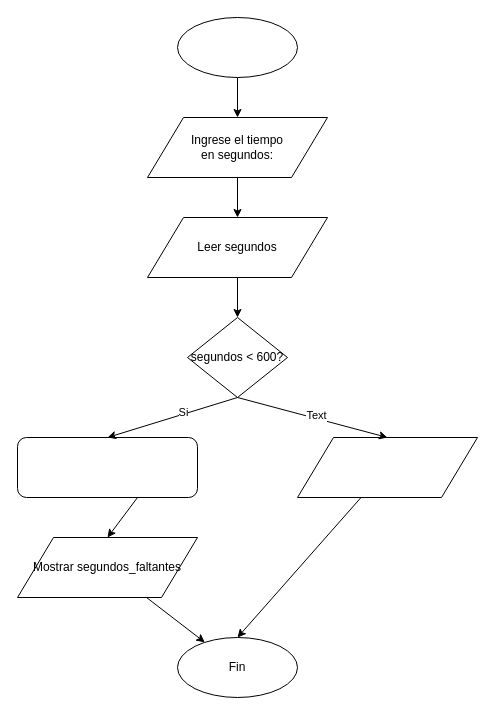
The diagram is 495 pixels wide and 715 high, and some of its shapes have lost their labels. The shapes that lost their labels are listed below. From the top down, each one's centre as x and y in pixels, then its label:
point (237, 47): Inicio
point (107, 467): segundos_faltantes = 600 - segundos
point (387, 467): Mostrar "Mayor"
